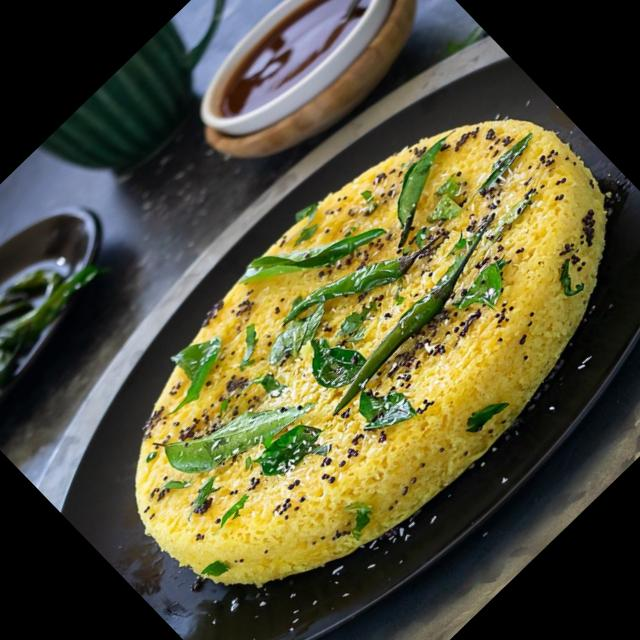dhokla: (73, 35, 640, 640)
